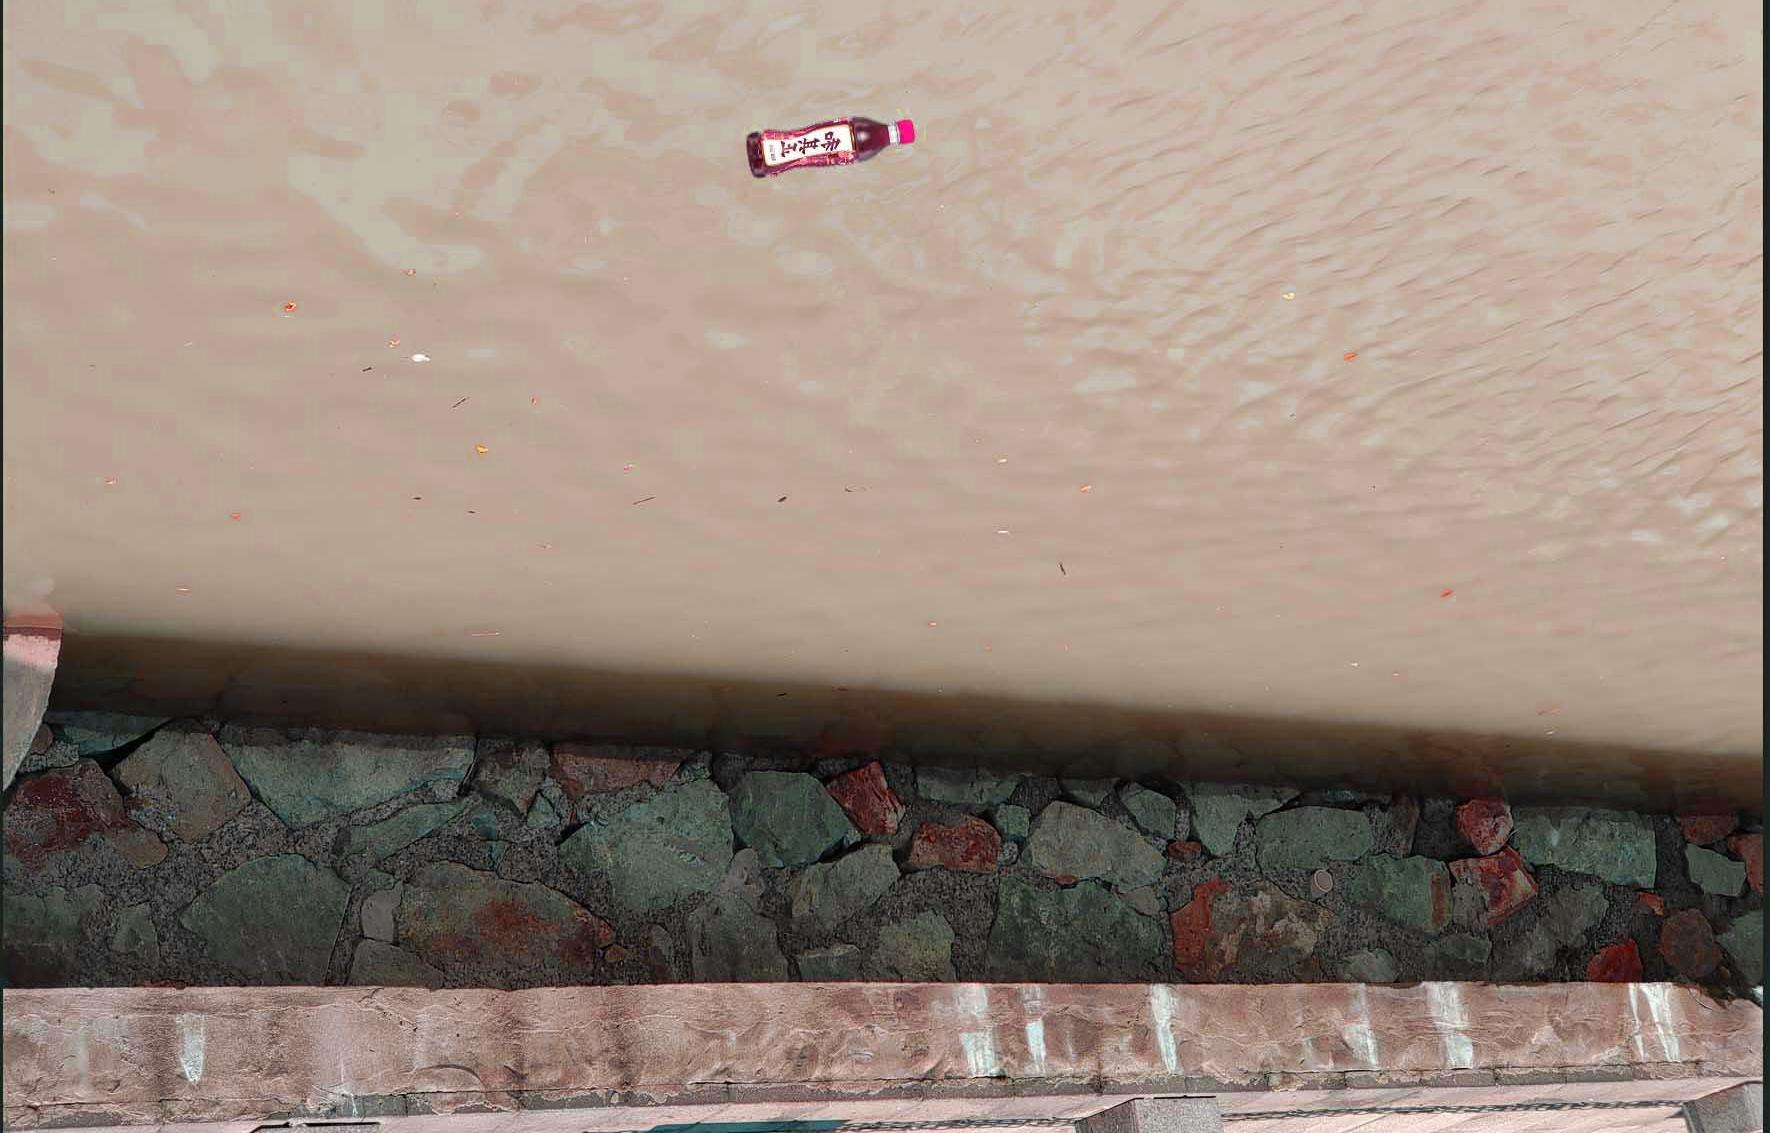Plastic: (741, 114, 917, 185)
